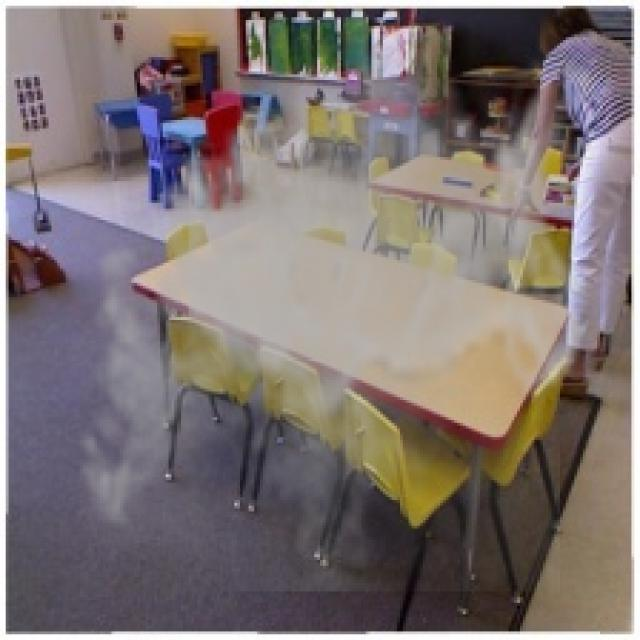smoke: (63, 29, 594, 592)
